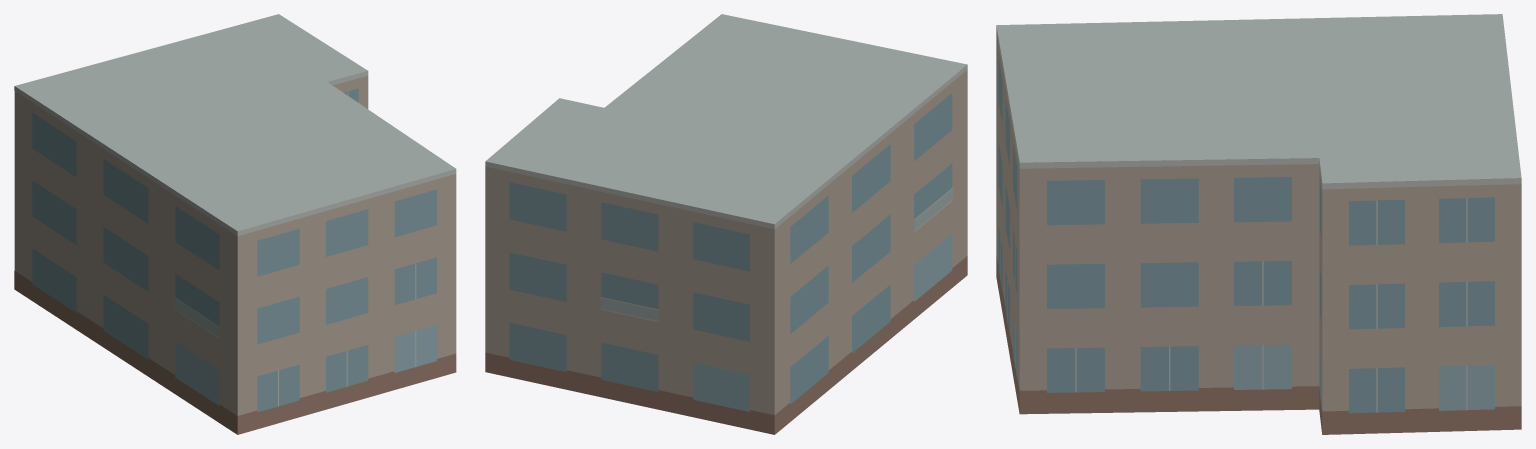
The model's file is survey-upis-32865455.glb.
3 renders of one model, left to right at view 1: azimuth 30°, elevation 25°; view 2: azimuth 150°, elevation 25°; view 3: azimuth 270°, elevation 25°, orthographic. The views are drawn at different scales.
Parts seen in each view (by area): view 1: survey-upis-32865455.tmp; view 2: survey-upis-32865455.tmp; view 3: survey-upis-32865455.tmp.
Part boxes in pixels (left/top/right/bottom): survey-upis-32865455.tmp: left=14, top=14, right=456, bottom=434; survey-upis-32865455.tmp: left=485, top=14, right=967, bottom=434; survey-upis-32865455.tmp: left=996, top=14, right=1521, bottom=434.
Bounding box in the file's own units: 14.74 × 10.2 × 19.31.
